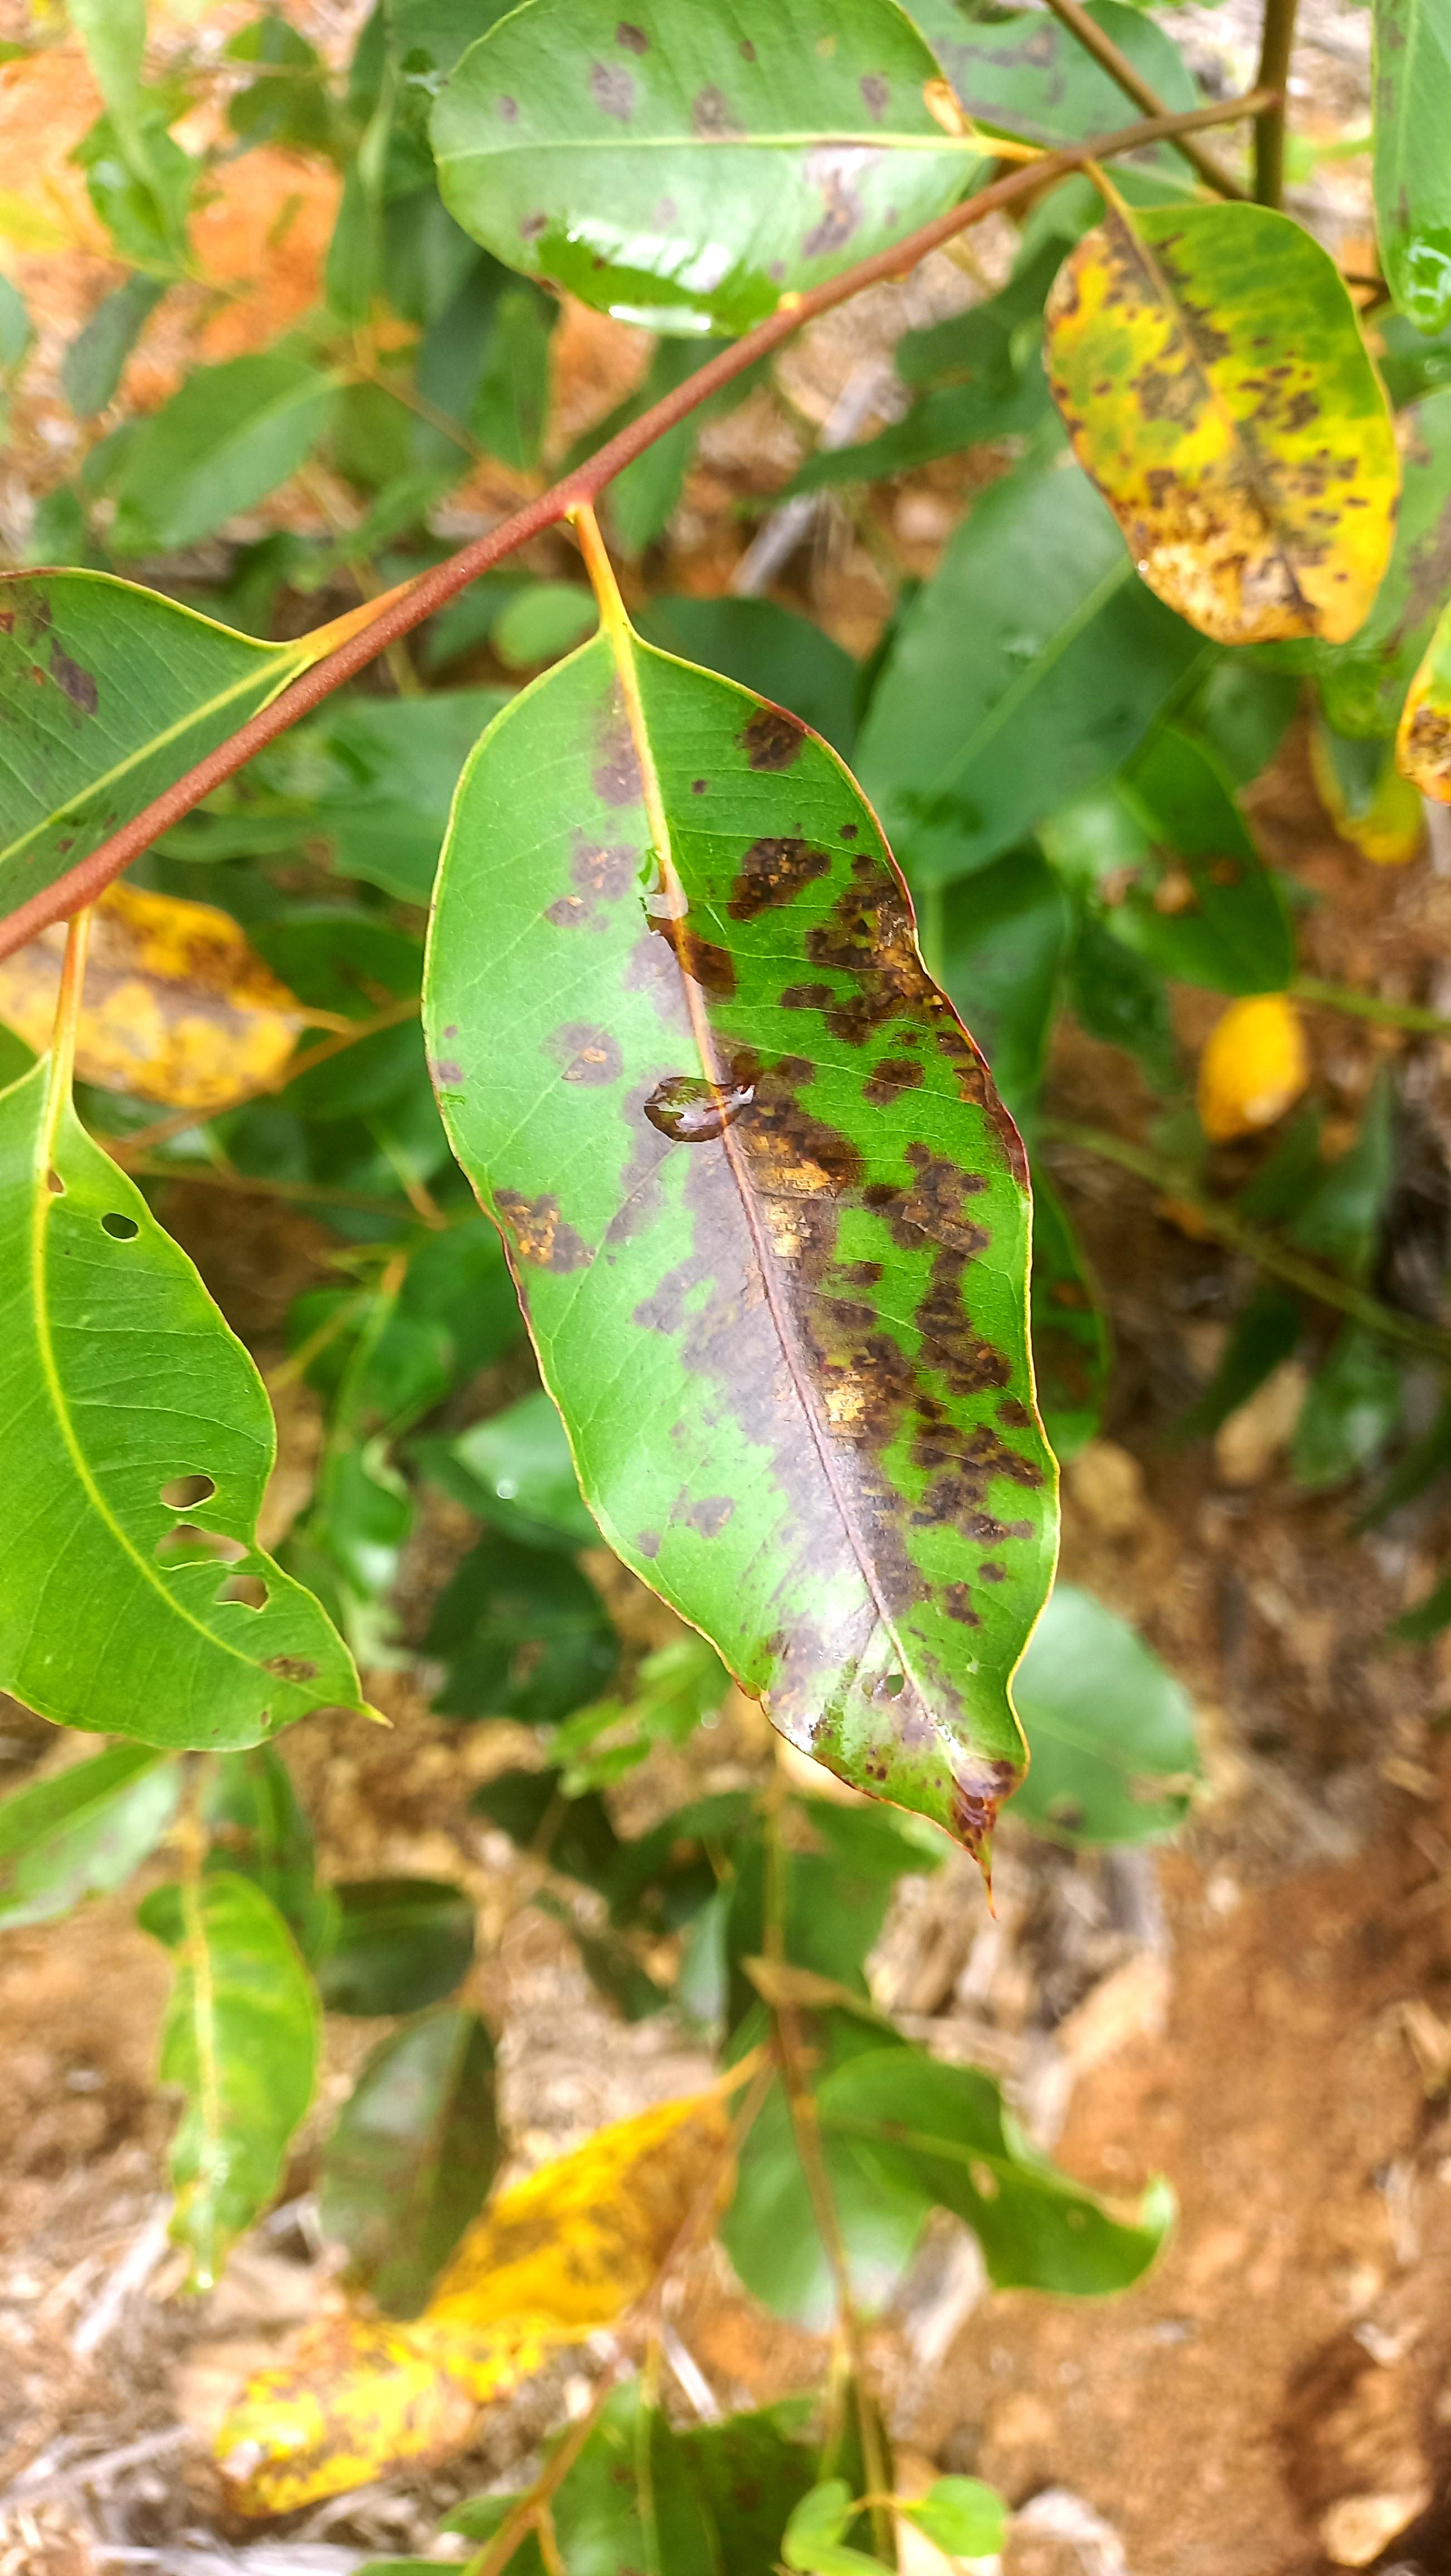Xanthomonas: (435, 715, 1143, 1826), (1049, 196, 1375, 630)
